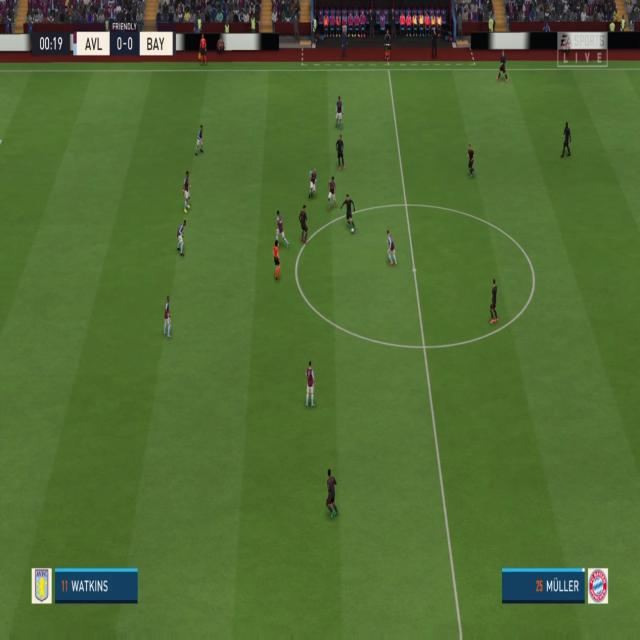Ball: (351, 228, 354, 234)
Referee: (272, 240, 282, 281)
Team-A: (324, 469, 338, 517), (342, 194, 358, 233), (489, 278, 501, 323), (298, 207, 310, 245), (562, 123, 574, 159), (466, 146, 476, 180), (498, 54, 510, 82), (336, 139, 346, 170)
Team-H: (305, 361, 318, 408), (276, 208, 289, 250), (386, 230, 400, 267), (163, 294, 174, 336), (176, 218, 186, 257), (182, 170, 191, 213), (194, 124, 205, 156), (328, 175, 338, 210), (308, 172, 318, 200), (336, 95, 344, 125)
